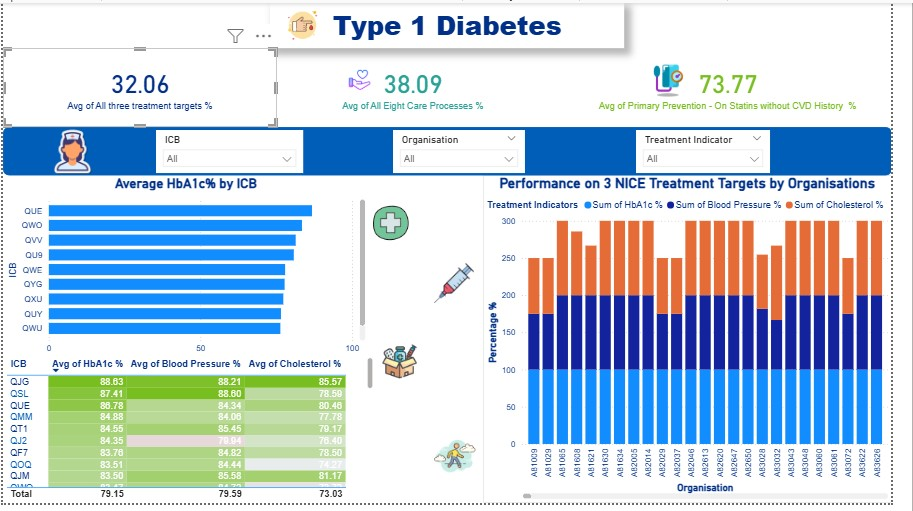

This screenshot's page, from the dashboard's own definition file:
{"tool":"powerbi","page":{"name":"Type 1 Diabetes","canvas":[1280,720],"ordinal":0},"visuals":[{"type":"shape","box":[0,178.3,1280,70],"z":0,"group":"g1"},{"type":"card","fields":{"Values":["Avg(Type 1 CP_TT.All Eight Care Processes - Percentage)"]},"box":[356.7,65,466.7,113.3],"z":0},{"type":"card","fields":{"Values":["Avg(Type 1 CP_TT.All three treatment targets - Percentage)"]},"box":[0,65,395,113.3],"z":1000},{"type":"card","fields":{"Values":["Avg(Type 1 CP_TT.Primary Prevention - On Statins without CVD History  - Percentage)"]},"box":[808.3,65,471.7,113.3],"z":2000},{"type":"textbox","box":[385,0,510,65],"z":3000},{"type":"barChart","fields":{"Y":["Type 1 CP_TT.Average HbA1c%"],"Category":["Type 1 CP_TT.ICB"]},"box":[0,248.3,526.7,278.3],"z":4000},{"type":"columnChart","title":"Performance on 3 NICE Treatment Targets by Organisations","fields":{"Y":["Sum(Type 1 CP_TT.HbA1c - Percentage)","Sum(Type 1 CP_TT.Blood Pressure - Percentage)","Sum(Type 1 CP_TT.Cholesterol - Percentage)"],"Category":["Type 1 CP_TT.Organisation"]},"box":[691.7,248.3,588.3,471.7],"z":5000},{"type":"tableEx","title":"ICB Vs Avg Hb1Ac, Avg BP, Avg Cholesterol","fields":{"Values":["Type 1 CP_TT.ICB","Avg(Type 1 CP_TT.HbA1c - Percentage)","Avg(Type 1 CP_TT.Blood Pressure - Percentage)","Avg(Type 1 CP_TT.Cholesterol - Percentage)"]},"box":[0,505,538.3,215],"z":6000},{"type":"group","id":"g1","title":"Group 1","box":[0,175,1280,76.7],"z":7000},{"type":"slicer","fields":{"Values":["Type 1 CP_TT.ICB"]},"box":[220,181.7,211.7,61.7],"z":8000,"group":"g1"},{"type":"image","box":[98.3,83.3,58.3,58.3],"z":8000},{"type":"slicer","fields":{"Values":["Type 1 CP_TT.Organisation"]},"box":[561.7,181.7,190,61.7],"z":9000,"group":"g1"},{"type":"image","box":[490,83.3,48.3,53.3],"z":9000},{"type":"image","box":[398.3,0,65,63.3],"z":10000},{"type":"slicer","fields":{"Values":["Treatment Indicator.Treatment Indicator"]},"box":[911.7,181.7,193.3,61.7],"z":10000,"group":"g1"},{"type":"image","box":[45,175,111.7,76.7],"z":11000,"group":"g1"},{"type":"image","box":[926.7,78.3,60,63.3],"z":11000},{"type":"image","box":[526.7,271.7,63.3,88.3],"z":12000},{"type":"image","box":[611.7,336.7,75,133.3],"z":13000},{"type":"image","box":[538.3,470,65,91.7],"z":14000},{"type":"image","box":[611.7,601.7,75,101.7],"z":15000}]}

Visuals, with their boxes in screenshot pixels (x1, y1, x2, y2), scaled from the page's 1280x720 canvas onto the 913x511 screenshot:
shape: box(0, 127, 912, 176)
card - Avg(Type 1 CP_TT.All Eight Care Processes - Percentage): box(254, 46, 587, 127)
card - Avg(Type 1 CP_TT.All three treatment targets - Percentage): box(0, 46, 282, 127)
card - Avg(Type 1 CP_TT.Primary Prevention - On Statins without CVD History  - Percentage): box(577, 46, 912, 127)
textbox: box(275, 0, 638, 46)
barChart - Type 1 CP_TT.Average HbA1c% x Type 1 CP_TT.ICB: box(0, 176, 376, 374)
"Performance on 3 NICE Treatment Targets by Organisations" columnChart: box(493, 176, 912, 510)
"ICB Vs Avg Hb1Ac, Avg BP, Avg Cholesterol" tableEx: box(0, 358, 384, 510)
"Group 1" group: box(0, 124, 912, 179)
slicer - Type 1 CP_TT.ICB: box(157, 129, 308, 173)
image: box(70, 59, 112, 100)
slicer - Type 1 CP_TT.Organisation: box(401, 129, 536, 173)
image: box(350, 59, 384, 97)
image: box(284, 0, 330, 45)
slicer - Treatment Indicator.Treatment Indicator: box(650, 129, 788, 173)
image: box(32, 124, 112, 179)
image: box(661, 56, 704, 100)
image: box(376, 193, 421, 256)
image: box(436, 239, 490, 334)
image: box(384, 334, 430, 399)
image: box(436, 427, 490, 499)
